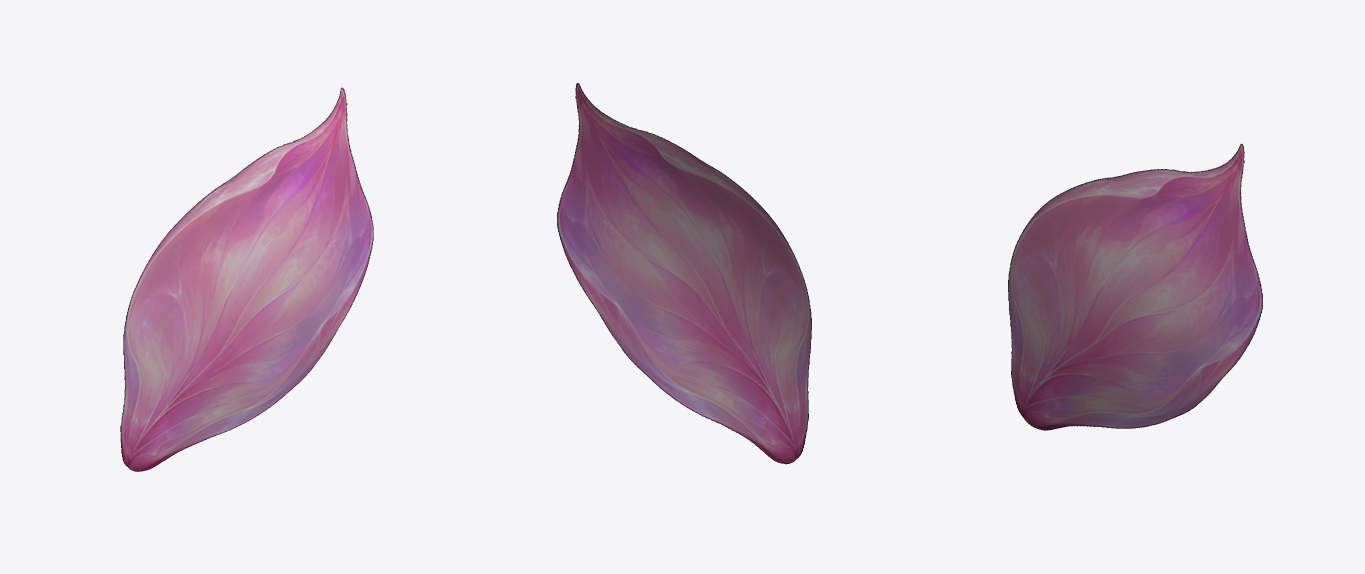
The model's file is petal_4.glb.
The picture shows the model from 3 angles, left to right: view 1: azimuth 30°, elevation 25°; view 2: azimuth 150°, elevation 25°; view 3: azimuth 330°, elevation 25°; orthographic projection.
Size of the model in its own units: 1 by 1 by 0.0875.
1 material, 1 textured.
